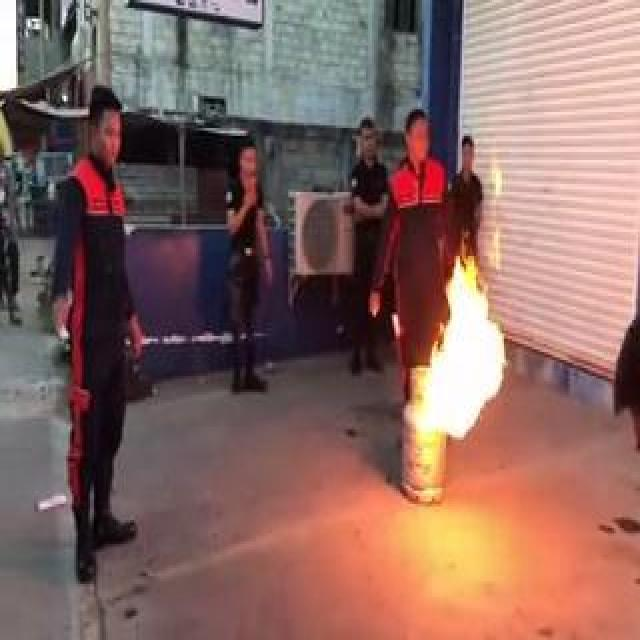Smoke: (419, 213, 527, 442)
